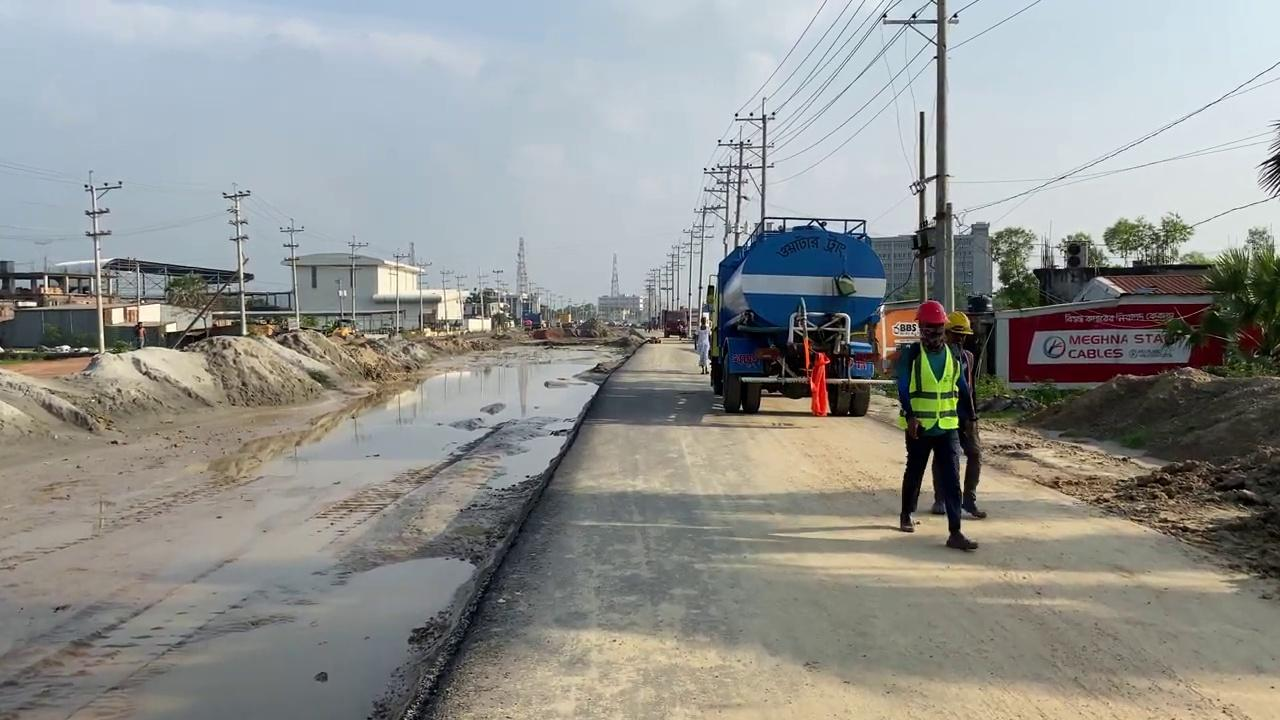Curb: (394, 331, 657, 717)
Pole: (931, 1, 951, 313)
Rickshaw: (416, 333, 1278, 718)
Sidewalk: (1, 338, 634, 718)
Traffic-sign: (987, 225, 1039, 309)
Tree: (704, 216, 887, 416), (567, 316, 607, 338), (322, 318, 360, 338), (662, 309, 687, 338)
